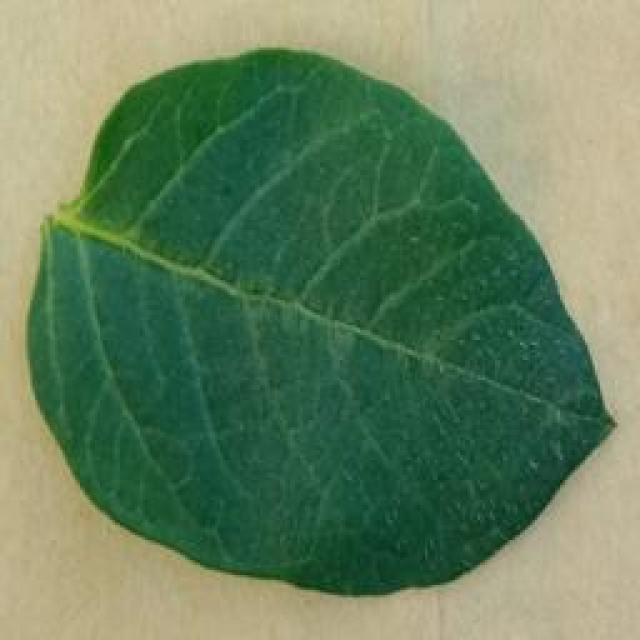Potato_Healthy: (24, 49, 610, 593)
